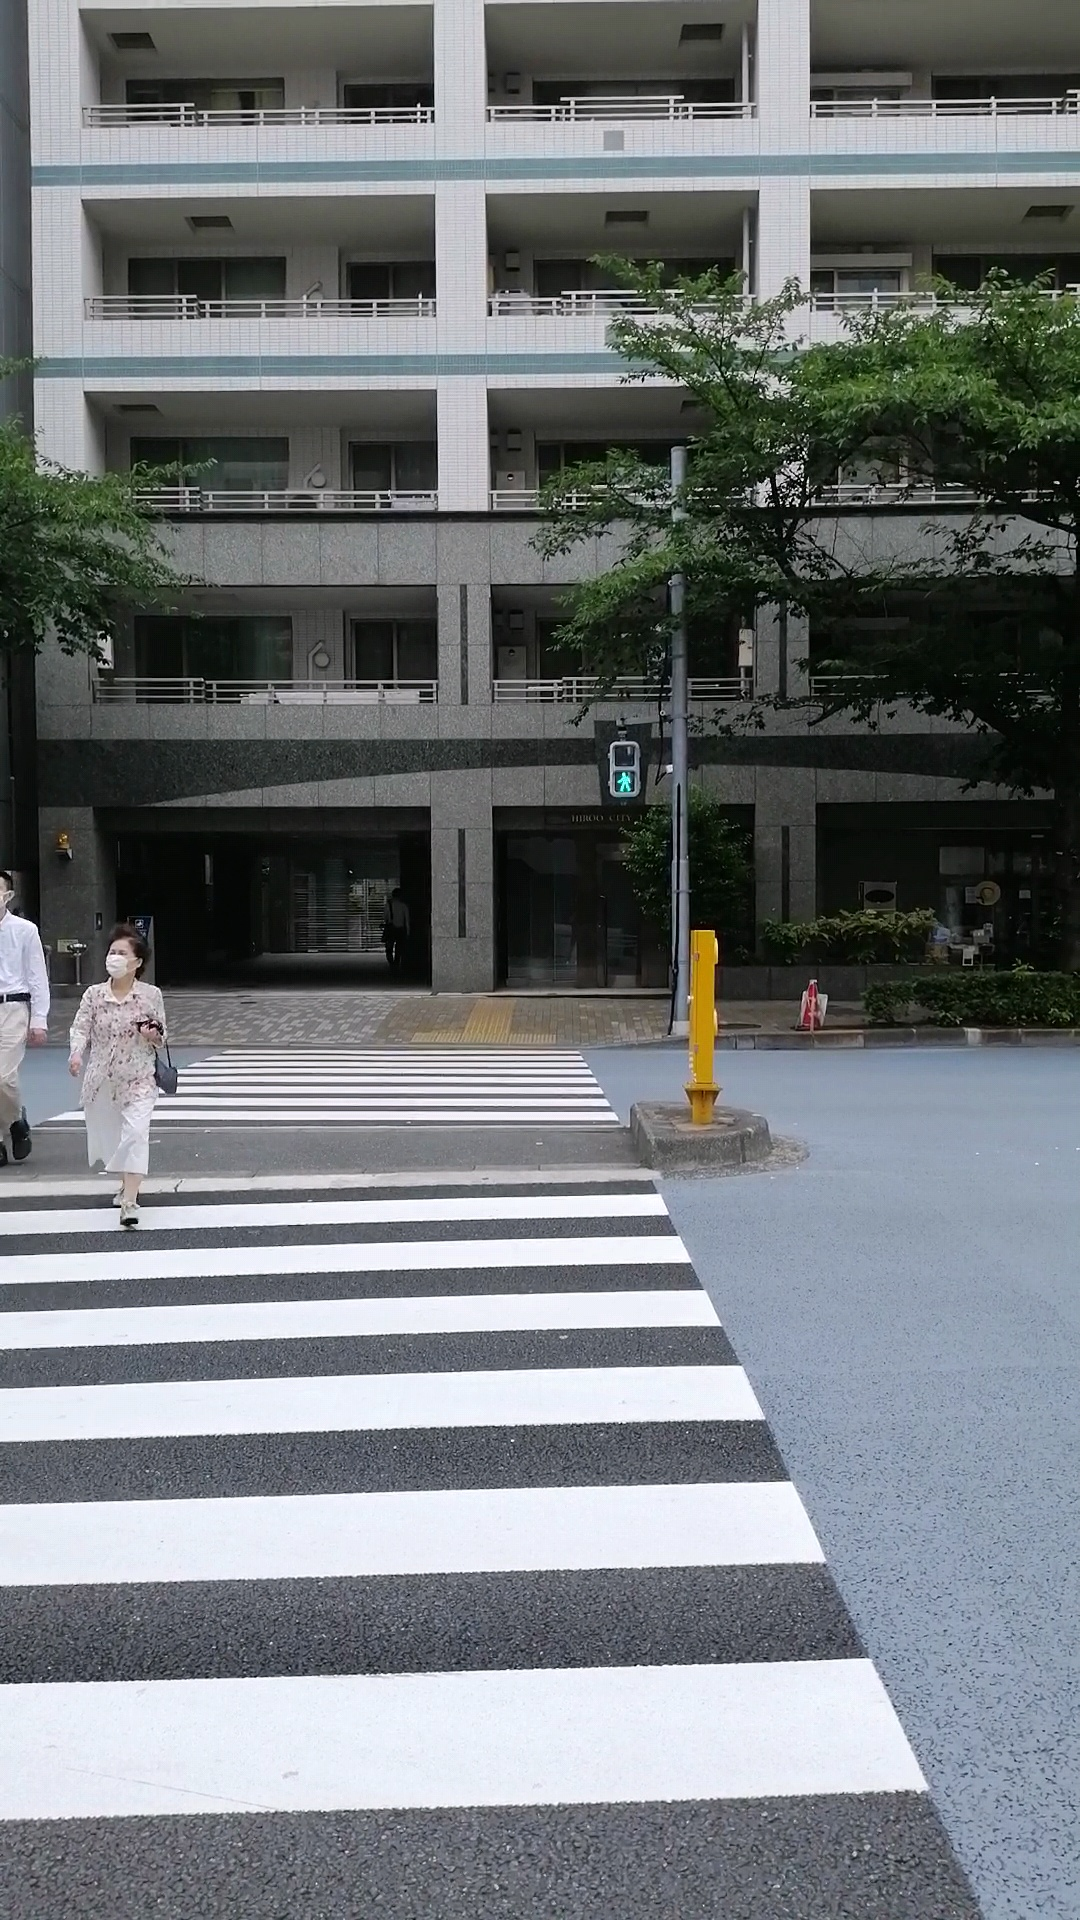green: (608, 741, 640, 796)
